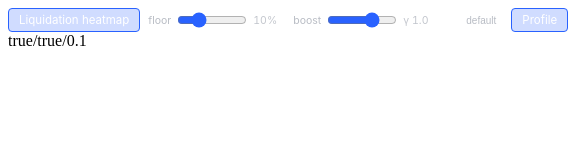
Test: the overlay toggles section › turns the heatmap off again, leaving the other field alone
Click the button "Liquidation heatmap". click: (74, 20)
box: [8, 8, 140, 32]
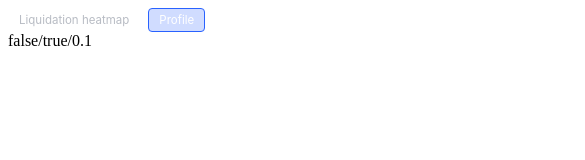
Check: the text with test id "overlays" reads "false/true/0.1", box [8, 32, 92, 49]
